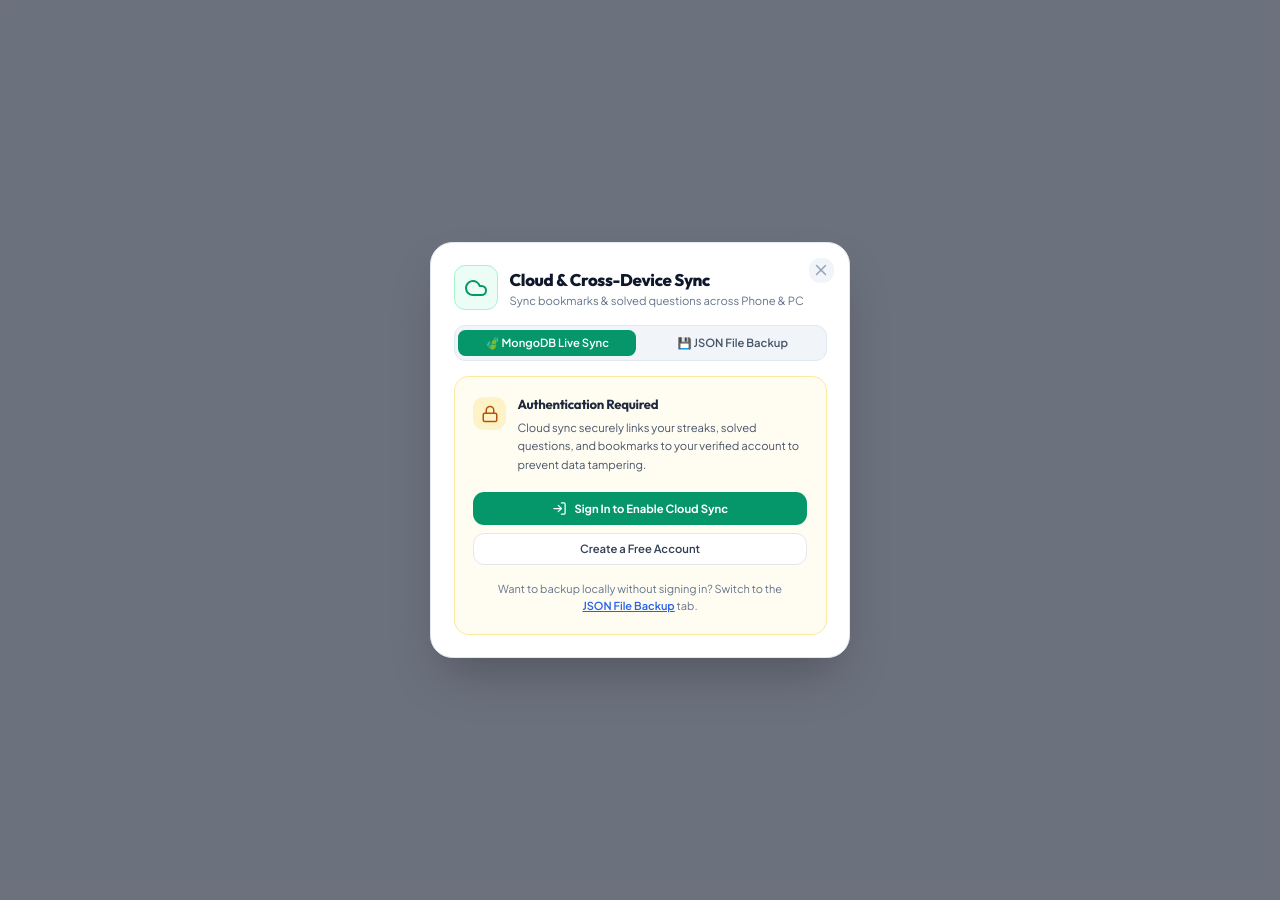
Test: SyncModal Authentication & UX Behavior › allows switching to JSON File Backup tab
Click the button "💾 JSON File Backup".
click(733, 343)  # box [644, 330, 822, 356]
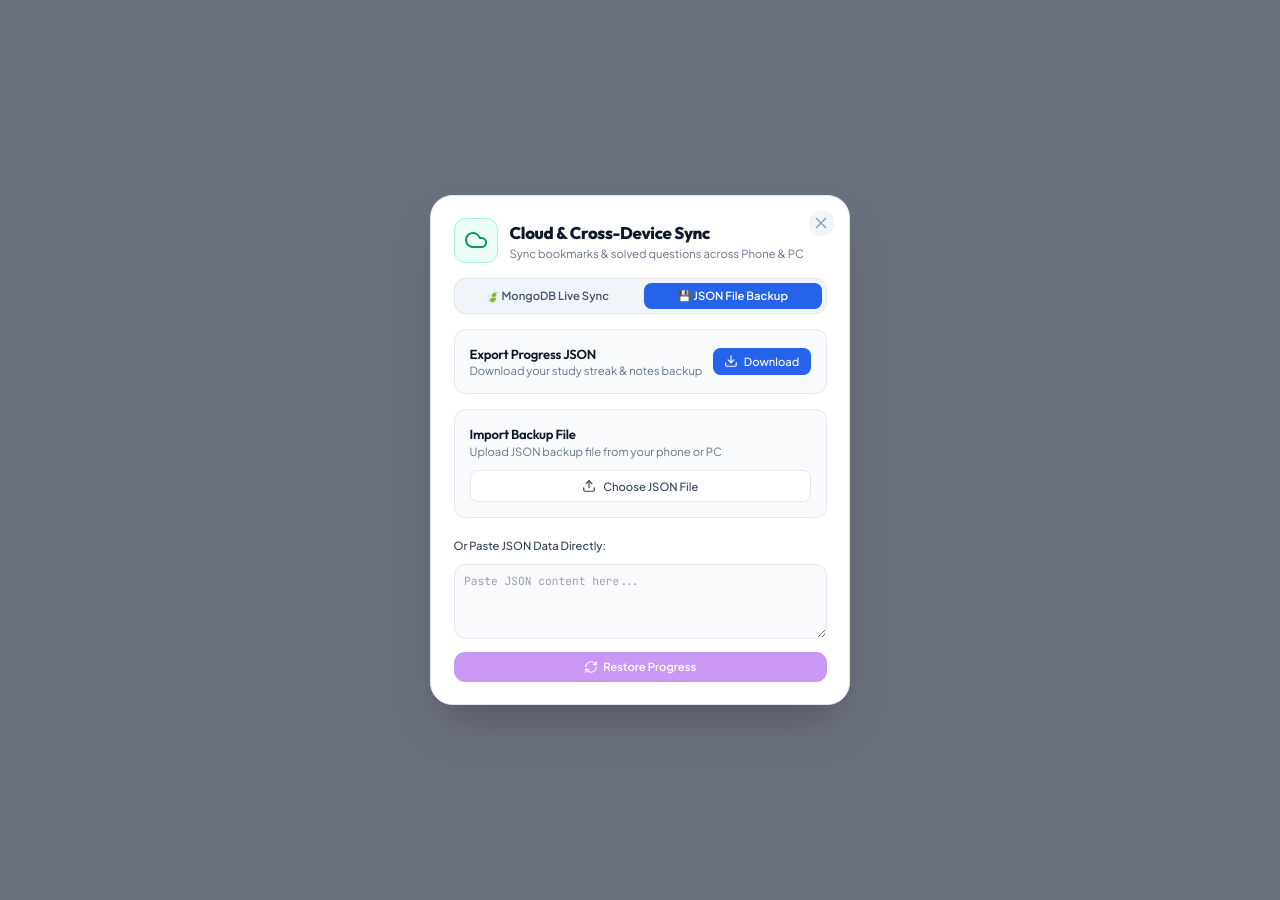
expect the heading "Export Progress JSON" is shown: met, box [470, 346, 596, 362]
expect the heading "Import Backup File" is shown: met, box [470, 426, 576, 442]
